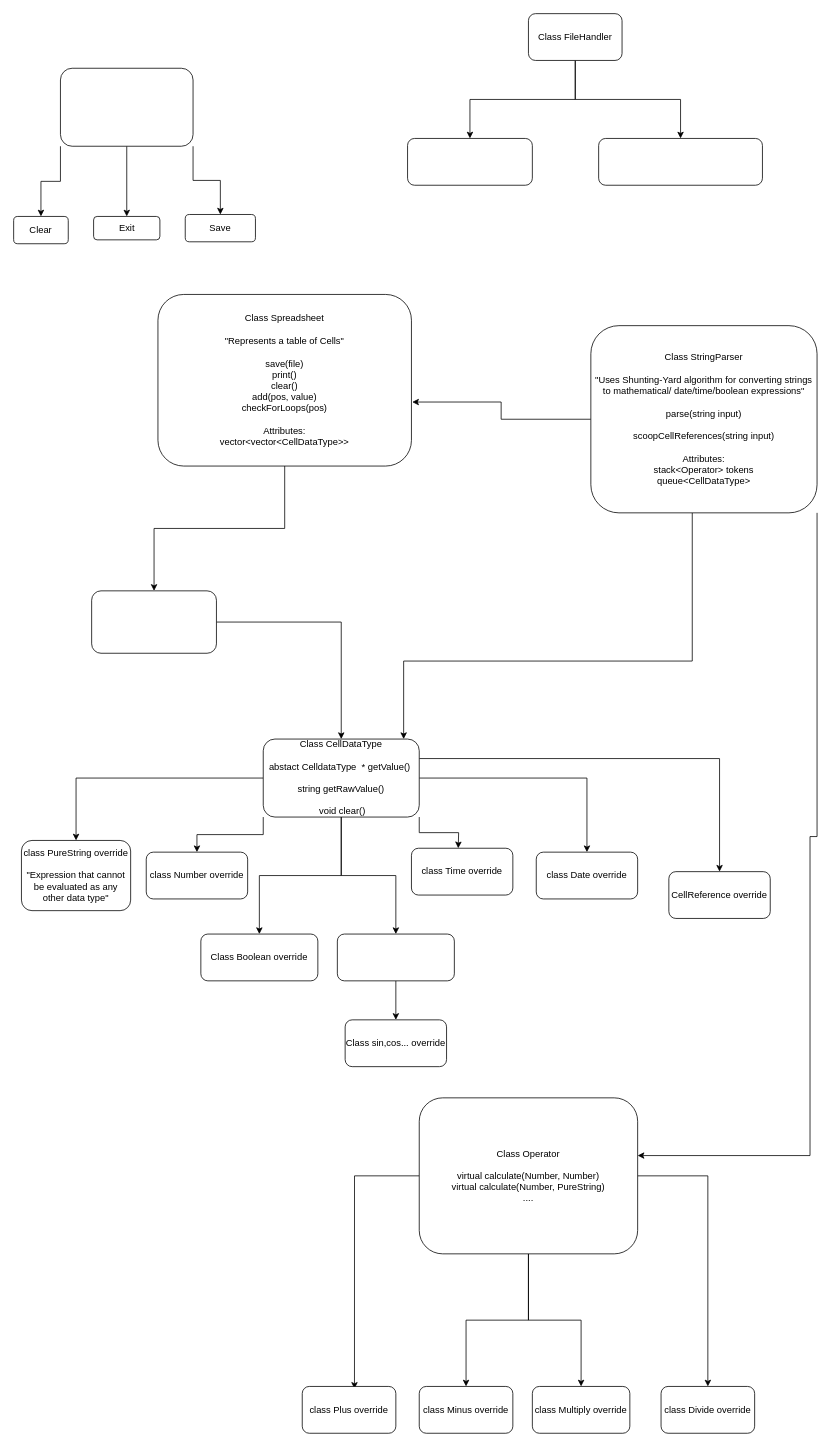
This 837x1447 diagram has some shape labels left out. Here are the shapes that lost their labels. From the top down, the centre of each, then its label:
pixel 126 106: Class Button: "Represents a button in UI"
pixel 469 161: class CSVFileHandler override
pixel 680 161: class ConfigFileHandler overiide
pixel 153 621: Class Cell: Pair<int, int> position; CellDataType value; String rawValue
pixel 395 957: Class Formula override
